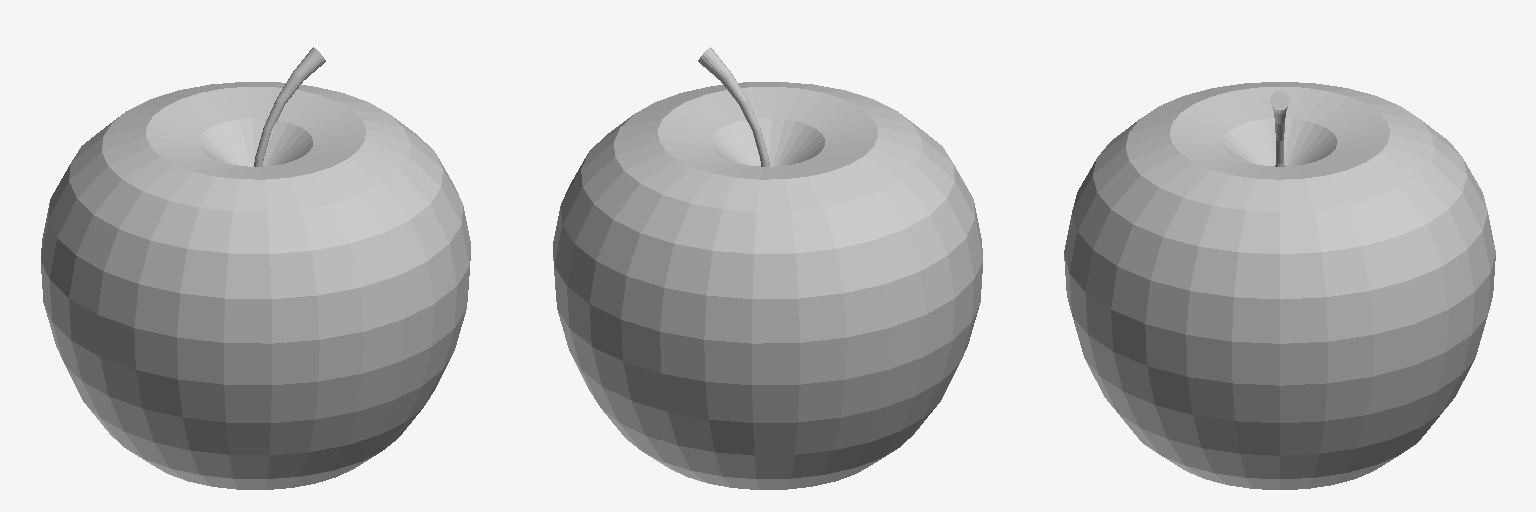
File: food_apple.obj
3 renders of one model, left to right at view 1: azimuth 30°, elevation 25°; view 2: azimuth 150°, elevation 25°; view 3: azimuth 270°, elevation 25°, orthographic.
Visible parts, largest first — view 1: jabuka; view 2: jabuka; view 3: jabuka.
Part boxes in pixels (left/top/right/bottom): jabuka: left=41, top=47, right=470, bottom=489; jabuka: left=553, top=47, right=982, bottom=489; jabuka: left=1064, top=82, right=1495, bottom=489.
Size of the model in its own units: 3.99 by 3.94 by 3.99.